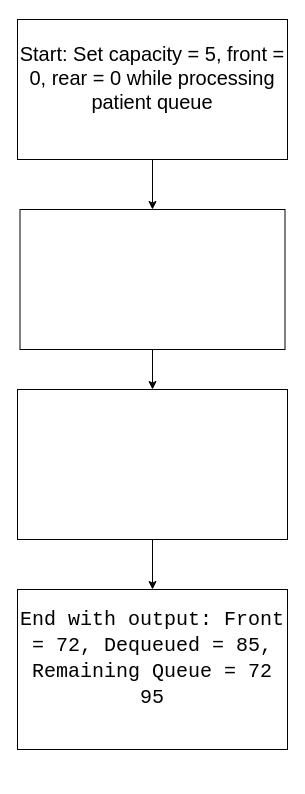
The diagram is 305 pixels wide and 794 high, and some of its shapes have lost their labels. The shapes that lost their labels are listed below. From the top down, each one's centre as x and y in pixels, then its label:
At [152,279]: "Enqueue patient IDs (85, 72, 95), place at arr[rear] and increment rear++".
At [152,464]: "Check condition again or dequeue patient at front, increment front++".
